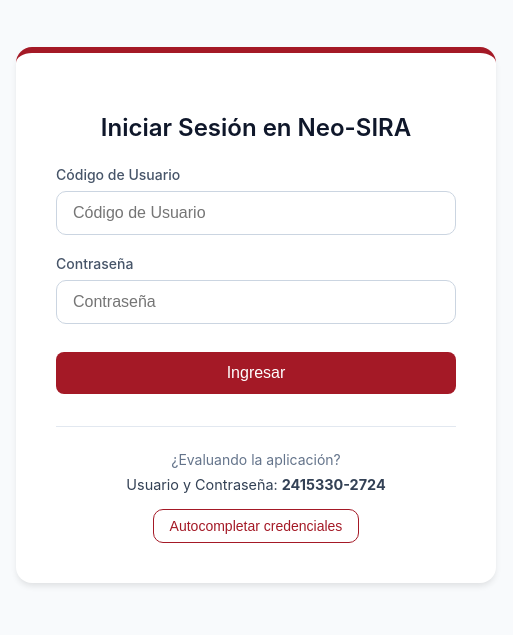
Scenario: Componente Login › Muestra el error del backend si las credenciales son incorrectas
Type "admin" into the field with placeholder "Código de Usuario" at x=256, y=213, box [56,191,456,235]
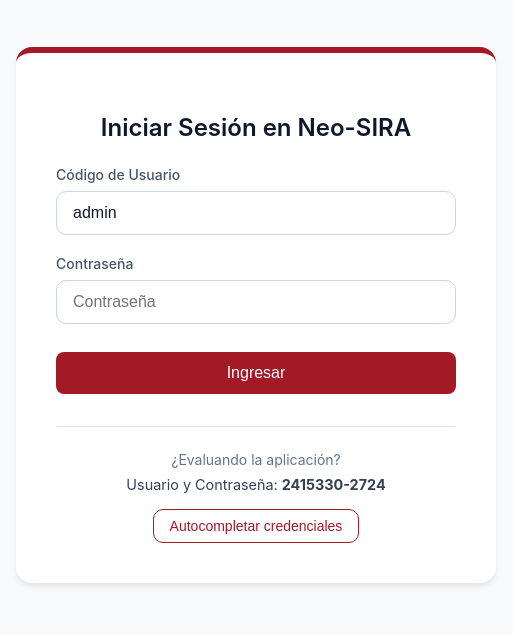
Type "wrongpass" into the password field with placeholder "Contraseña" at x=256, y=302, box [56,280,456,324]
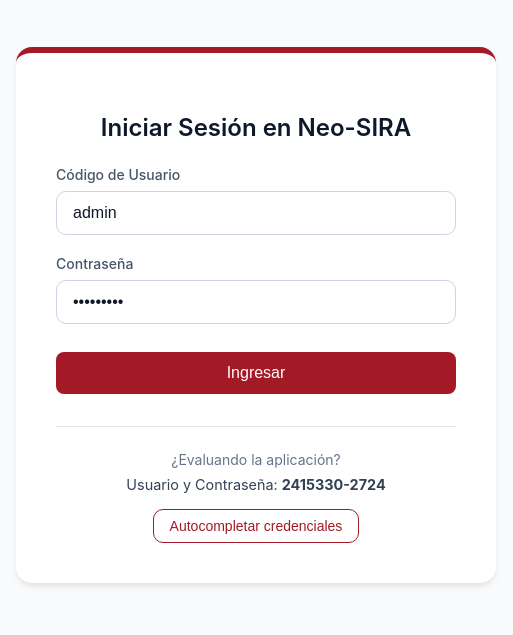
Click the button "Ingresar" at x=256, y=373, box [56,352,456,394]
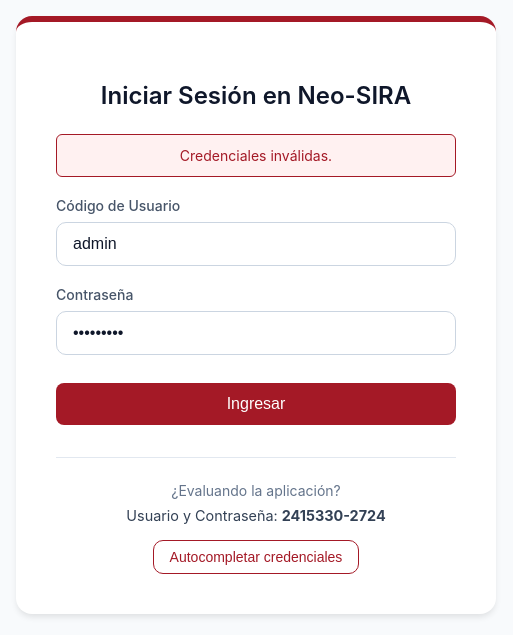
Check: the message reads "Credenciales inválidas.", box [180,148,332,164]
